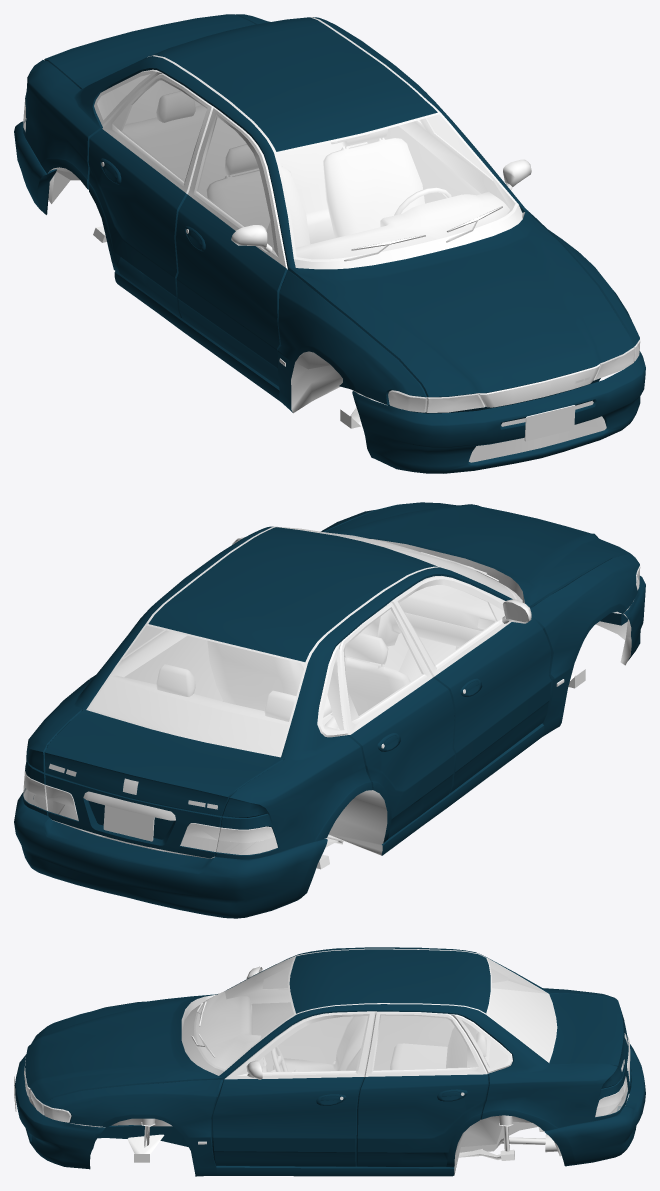
File: body.glb
3 views of the same model, one above another, from view 1: azimuth 30°, elevation 25°; view 2: azimuth 150°, elevation 25°; view 3: azimuth 270°, elevation 25° (orthographic). The views are drawn at different scales.
Visible parts, largest first — view 1: KIRI95_BODY_KIRI95_bodymat_0, KIRI95_GLASS_UCB_Lights_and_Glass_Transperent_0, KIRI95_INTERIOR_UCB_Interiors_2_0, KIRI95_BOTTOM_UCB_BOTTOM_0, KIRI95_Reverse_UCB_Lights_and_Glass_0, KIRI94_Numberplates_Front_Numberplates_Misk_U_0; view 2: KIRI95_BODY_KIRI95_bodymat_0, KIRI95_GLASS_UCB_Lights_and_Glass_Transperent_0, KIRI95_INTERIOR_UCB_Interiors_2_0, KIRI95_BOTTOM_UCB_BOTTOM_0, KIRI95_Reverse_UCB_Lights_and_Glass_0, KIRI94_Numberplates_Front_Numberplates_Misk_U_0; view 3: KIRI95_BODY_KIRI95_bodymat_0, KIRI95_GLASS_UCB_Lights_and_Glass_Transperent_0, KIRI95_INTERIOR_UCB_Interiors_2_0, KIRI95_BOTTOM_UCB_BOTTOM_0, KIRI95_Reverse_UCB_Lights_and_Glass_0.
Part boxes in pixels (x1,y1,x2,y2): KIRI95_BODY_KIRI95_bodymat_0: (14,14,645,473); KIRI95_GLASS_UCB_Lights_and_Glass_Transperent_0: (23,74,640,412); KIRI95_INTERIOR_UCB_Interiors_2_0: (97,74,514,258); KIRI95_BOTTOM_UCB_BOTTOM_0: (24,17,634,462); KIRI95_Reverse_UCB_Lights_and_Glass_0: (24,108,638,412); KIRI94_Numberplates_Front_Numberplates_Misk_U_0: (524,405,575,441); KIRI95_BODY_KIRI95_bodymat_0: (14,502,645,918); KIRI95_GLASS_UCB_Lights_and_Glass_Transperent_0: (23,527,640,854); KIRI95_INTERIOR_UCB_Interiors_2_0: (89,549,514,754); KIRI95_BOTTOM_UCB_BOTTOM_0: (24,526,633,869); KIRI95_Reverse_UCB_Lights_and_Glass_0: (24,577,638,842); KIRI94_Numberplates_Front_Numberplates_Misk_U_0: (103,805,154,841); KIRI95_BODY_KIRI95_bodymat_0: (14,947,645,1176); KIRI95_GLASS_UCB_Lights_and_Glass_Transperent_0: (30,957,627,1122); KIRI95_INTERIOR_UCB_Interiors_2_0: (196,957,555,1071); KIRI95_BOTTOM_UCB_BOTTOM_0: (24,948,630,1174); KIRI95_Reverse_UCB_Lights_and_Glass_0: (31,1078,626,1122).
Bounding box in the file's own units: 1.8 × 1.24 × 4.54.
